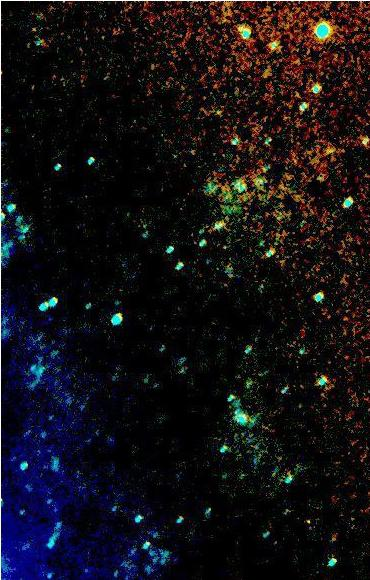star: (293, 505, 323, 535)
